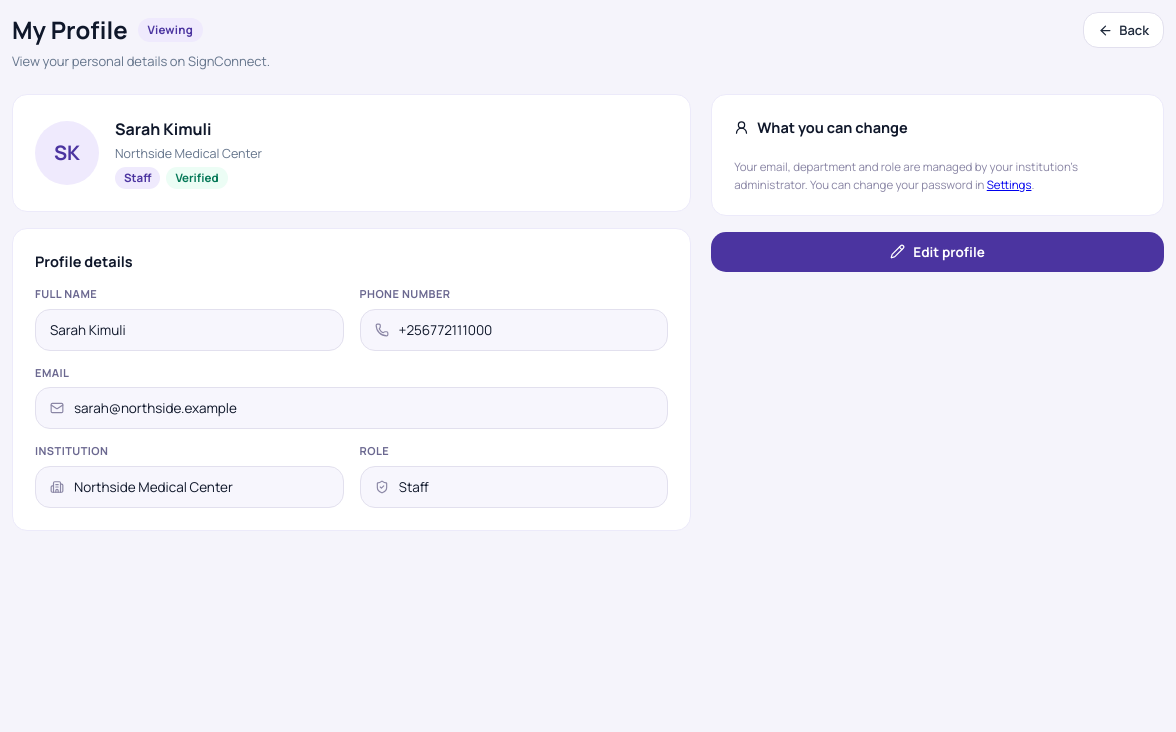
MyProfilePage › shows the server message under the phone field
The image size is (1176, 732).
Click the button "Edit profile". click: (938, 252)
box: [711, 232, 1164, 272]
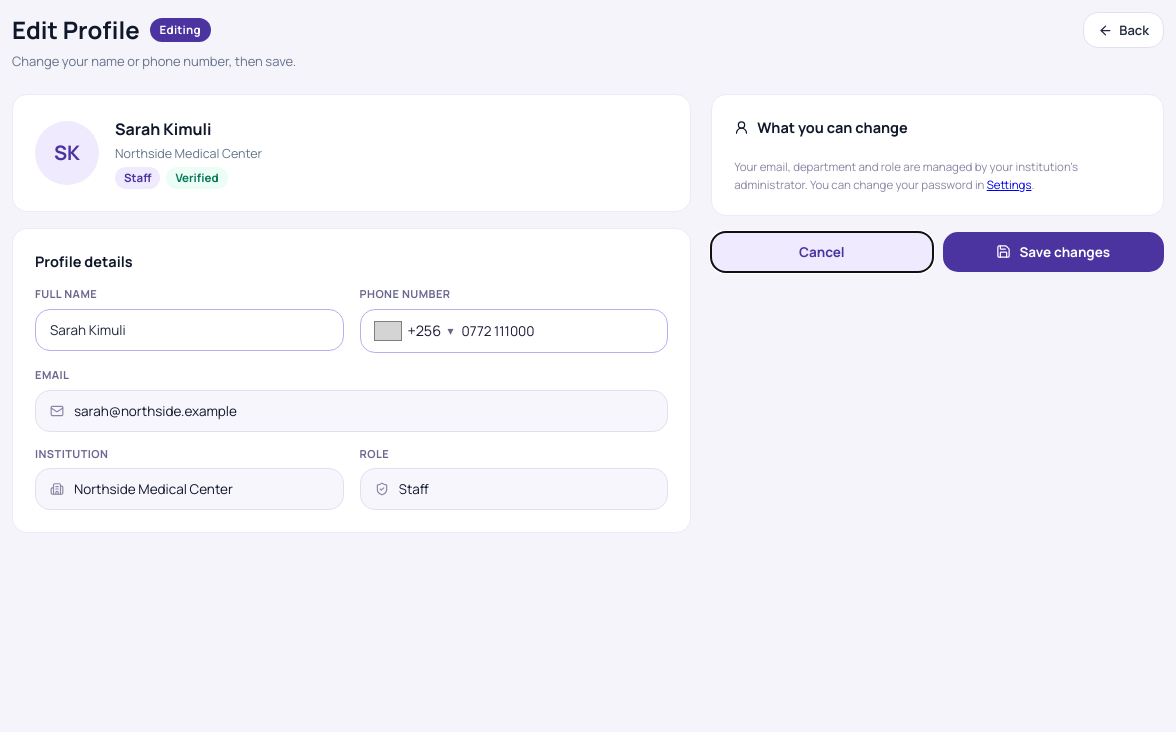
Click the button "Save changes". click: (1053, 252)
box: [943, 232, 1164, 272]
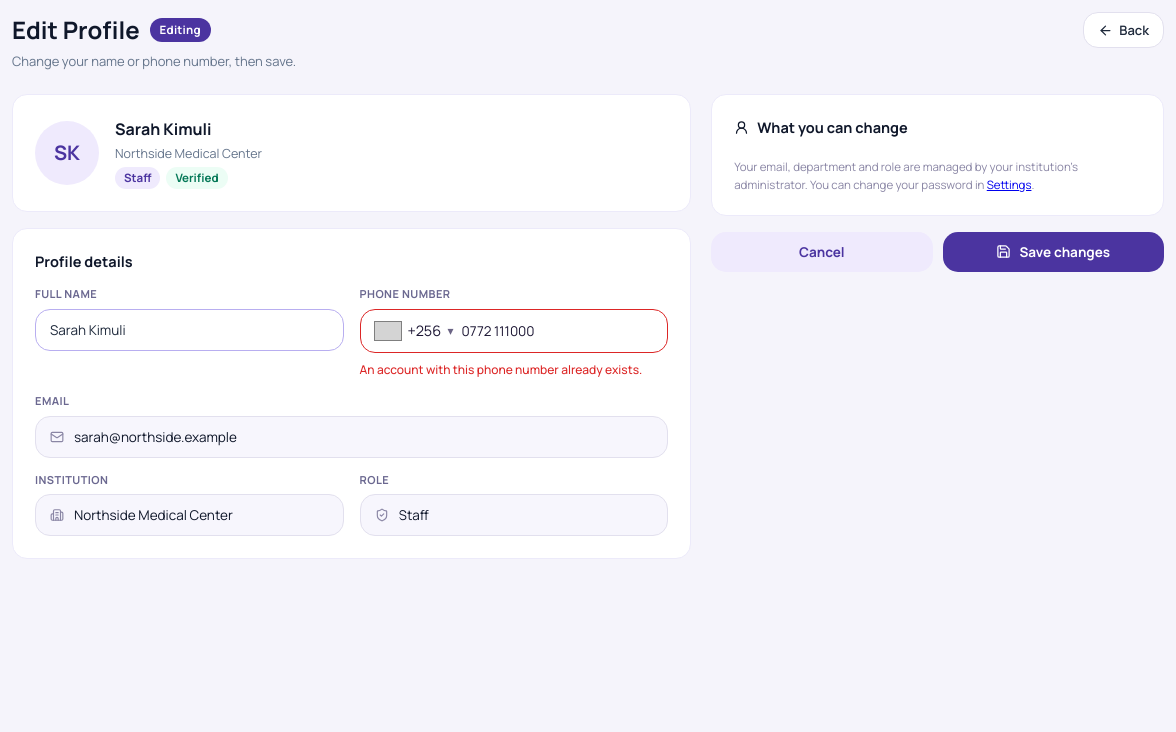
Result: the button "Save changes" is enabled at [943, 232, 1164, 272]
Result: the text "An account with this phone number already exists." is shown at [360, 361, 668, 379]
